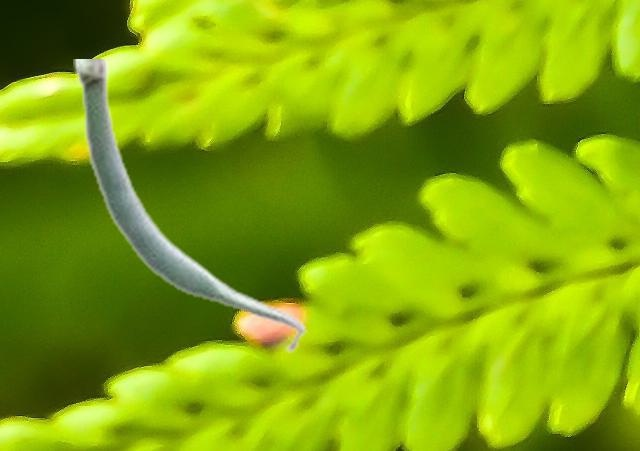french_bean: (73, 59, 306, 354)
